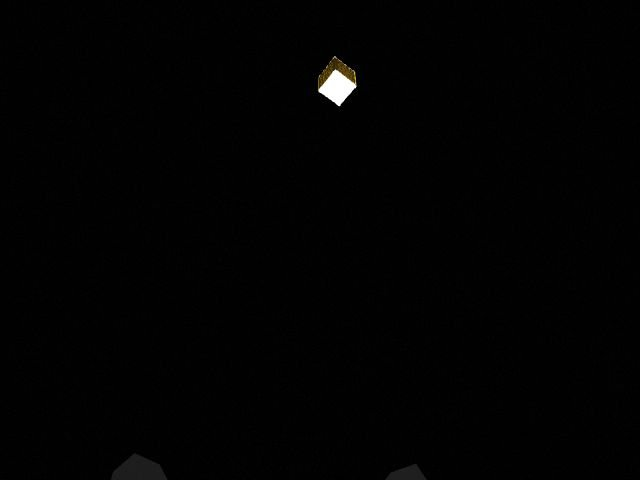cubesat: (315, 54, 358, 108)
